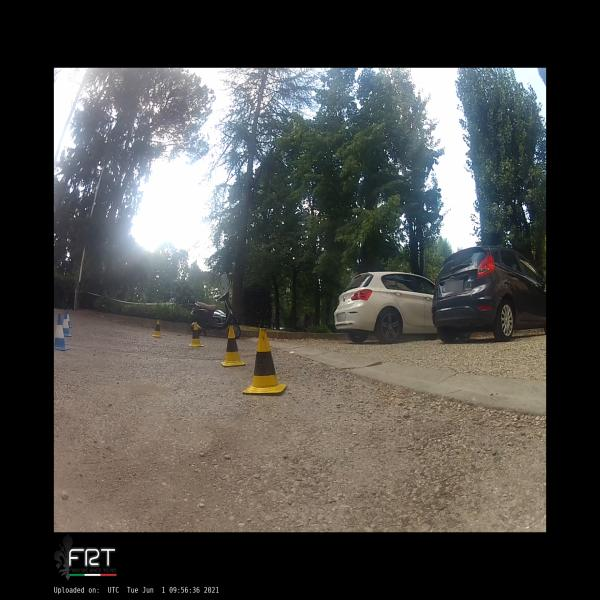blue_cone: (54, 313, 70, 351), (62, 311, 71, 337), (66, 306, 72, 328)
yellow_cone: (242, 329, 288, 394), (220, 326, 245, 367), (187, 321, 205, 347), (152, 319, 163, 337)
